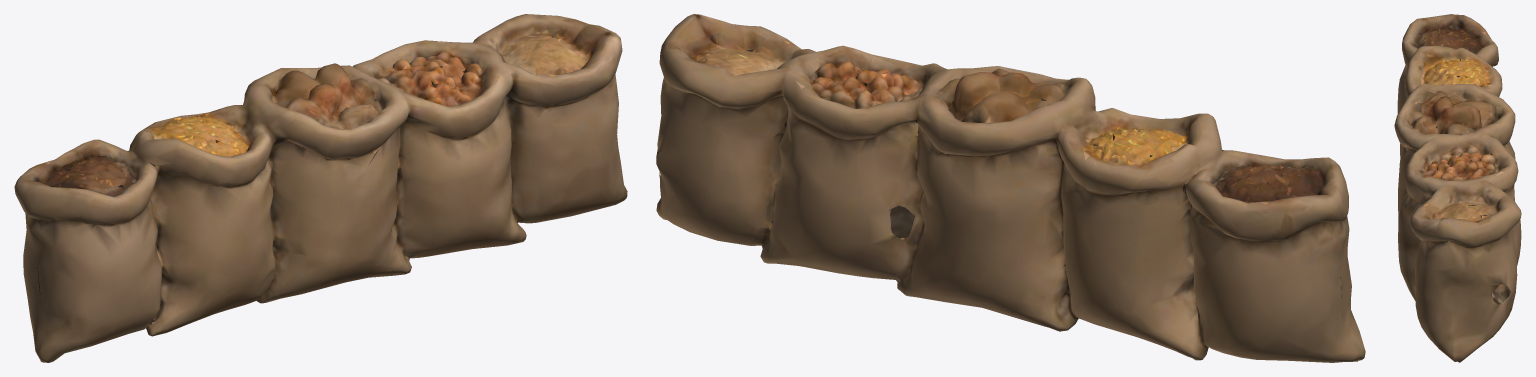
The model's file is SpiceSacks.glb.
3 renders of one model, left to right at view 1: azimuth 30°, elevation 25°; view 2: azimuth 150°, elevation 25°; view 3: azimuth 270°, elevation 25°, orthographic. The views are drawn at different scales.
Visible parts, largest first — view 1: SpiceSacks; view 2: SpiceSacks; view 3: SpiceSacks.
Boxes of the visible parts, x1,y1,x2,y2 form: SpiceSacks: (14,14,627,362); SpiceSacks: (656,14,1365,362); SpiceSacks: (1394,14,1521,362).
Bounding box in the file's own units: 2.1 × 0.6618 × 0.4991.
Materials: 1 (1 with a texture image).
